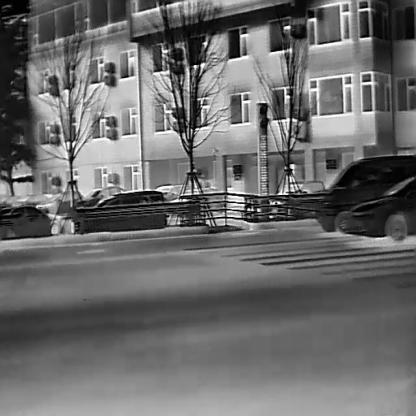car: (315, 154, 416, 234), (334, 177, 416, 239), (69, 189, 167, 234), (0, 200, 60, 238), (35, 189, 83, 213), (76, 186, 124, 206), (153, 184, 184, 202), (10, 194, 48, 207)
